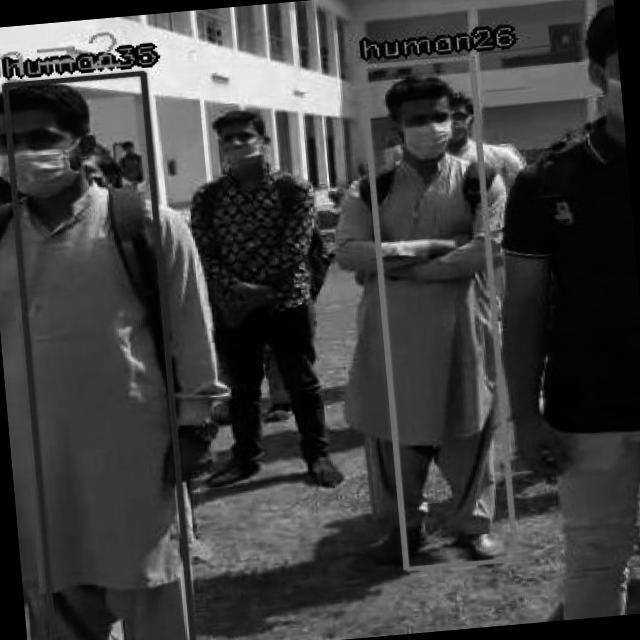person: (1, 70, 192, 640), (358, 54, 514, 568)
